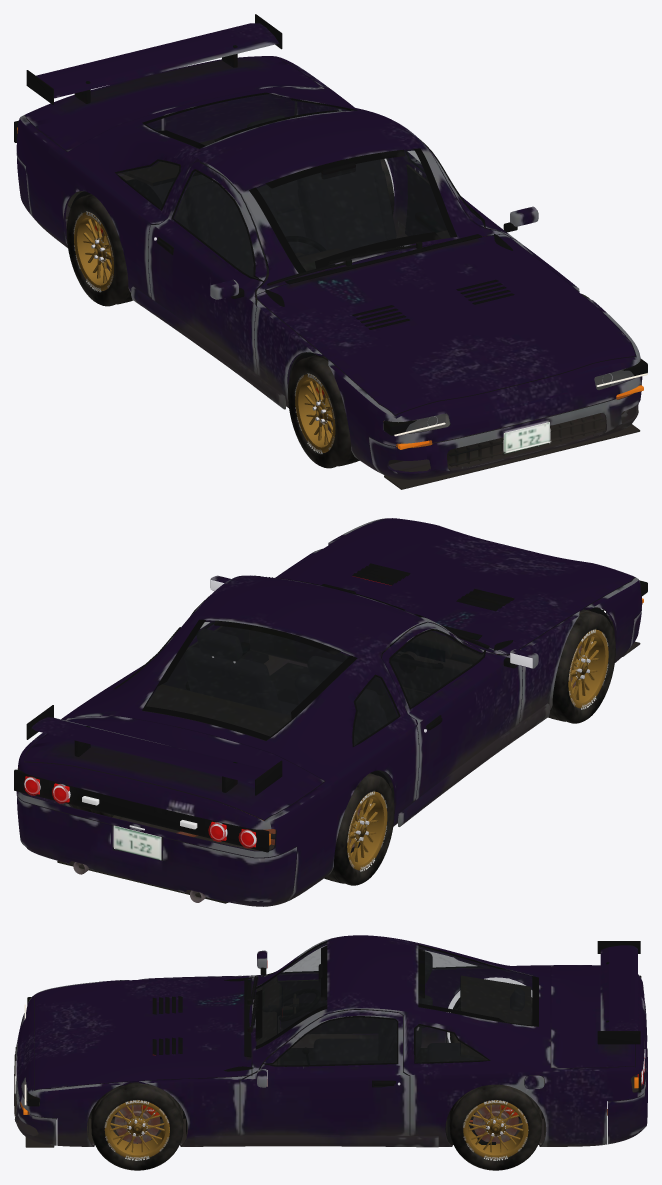
File: hayate.glb
3 views of the same model, one above another, from view 1: azimuth 30°, elevation 25°; view 2: azimuth 150°, elevation 25°; view 3: azimuth 270°, elevation 25° (orthographic). The views are drawn at different scales.
Parts seen in each view (by area): view 1: Body, Wheel_FR, Wheel_RR; view 2: Body, Wheel_FR, Wheel_RR; view 3: Body, Wheel_FL, Wheel_RL.
Boxes of the visible parts, box(x1,y1,x2,y2) form: Body: box(14, 14, 647, 489); Wheel_FR: box(288, 355, 359, 468); Wheel_RR: box(66, 194, 132, 306); Body: box(14, 518, 647, 906); Wheel_FR: box(548, 609, 615, 723); Wheel_RR: box(324, 773, 394, 885); Body: box(14, 935, 647, 1147); Wheel_FL: box(91, 1082, 183, 1170); Wheel_RL: box(449, 1084, 541, 1170).
Size of what is drawn, in the model's own units: 2.12 by 1.19 by 4.42.
2 materials, 2 textured.
